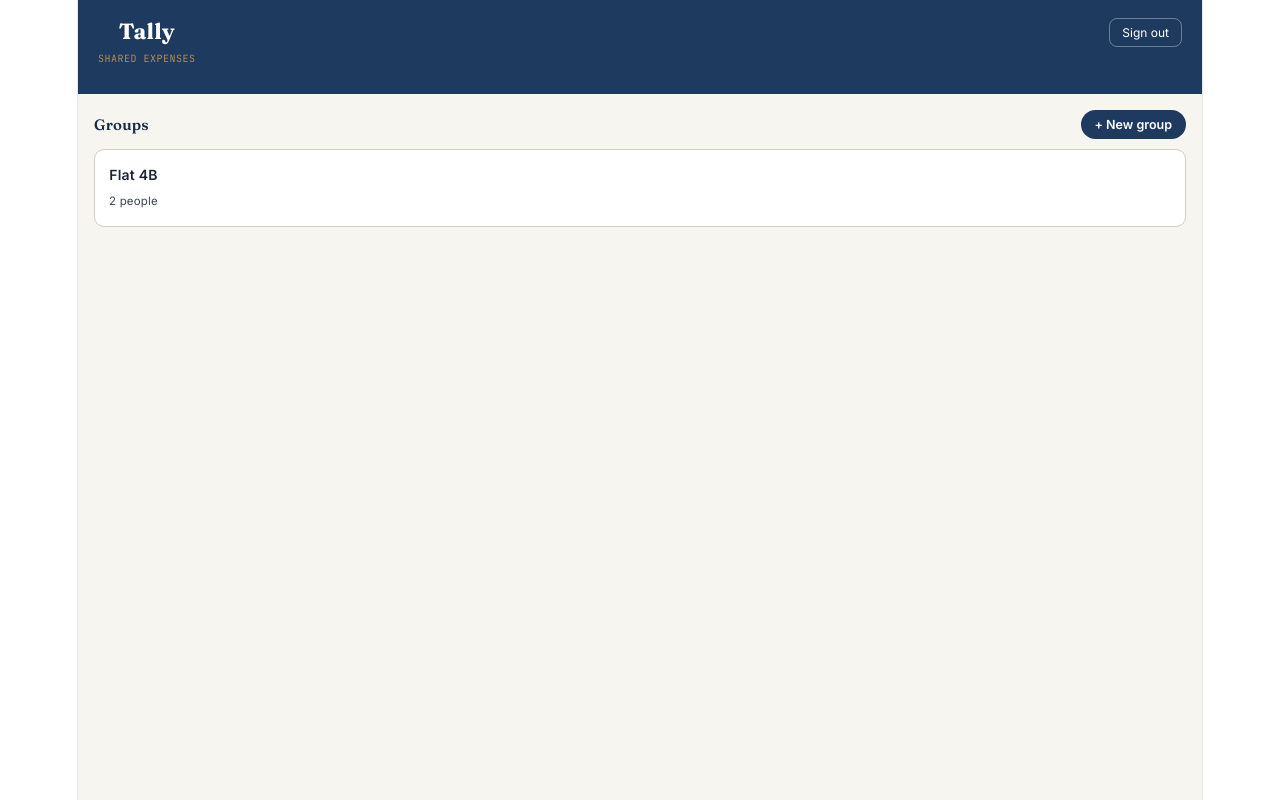
Scenario: Removing a settled member › shows 'settled up' and allows removal when balance is zero
Later steps or results of the test are not shown.
What coordinates should you click on to do the following:
click the text "Flat 4B"
I would click on:
 (133, 175)
Its box is [109,162,158,188].
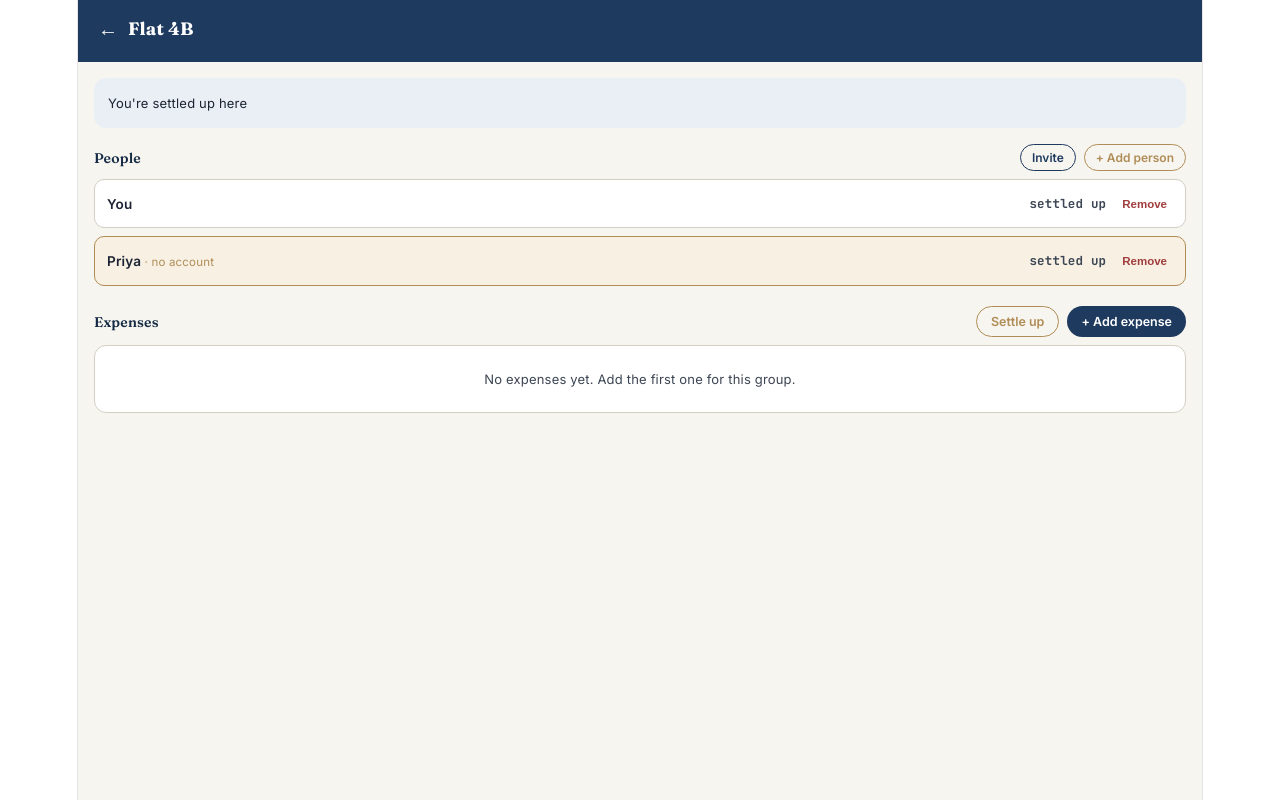
Expected: the text "settled up" is shown 2 times, [1029,191,1106,217]; [1029,248,1106,274]
Expected: the 1st button "Remove" is enabled, [1116,197,1173,211]
Expected: the button "Remove" in the row of "· no account" is enabled
What coordinates should you click on to do the following:
click the button "Remove" in the row of "· no account"
I would click on:
 (1145, 261)
Its box is [1116,254,1173,268].
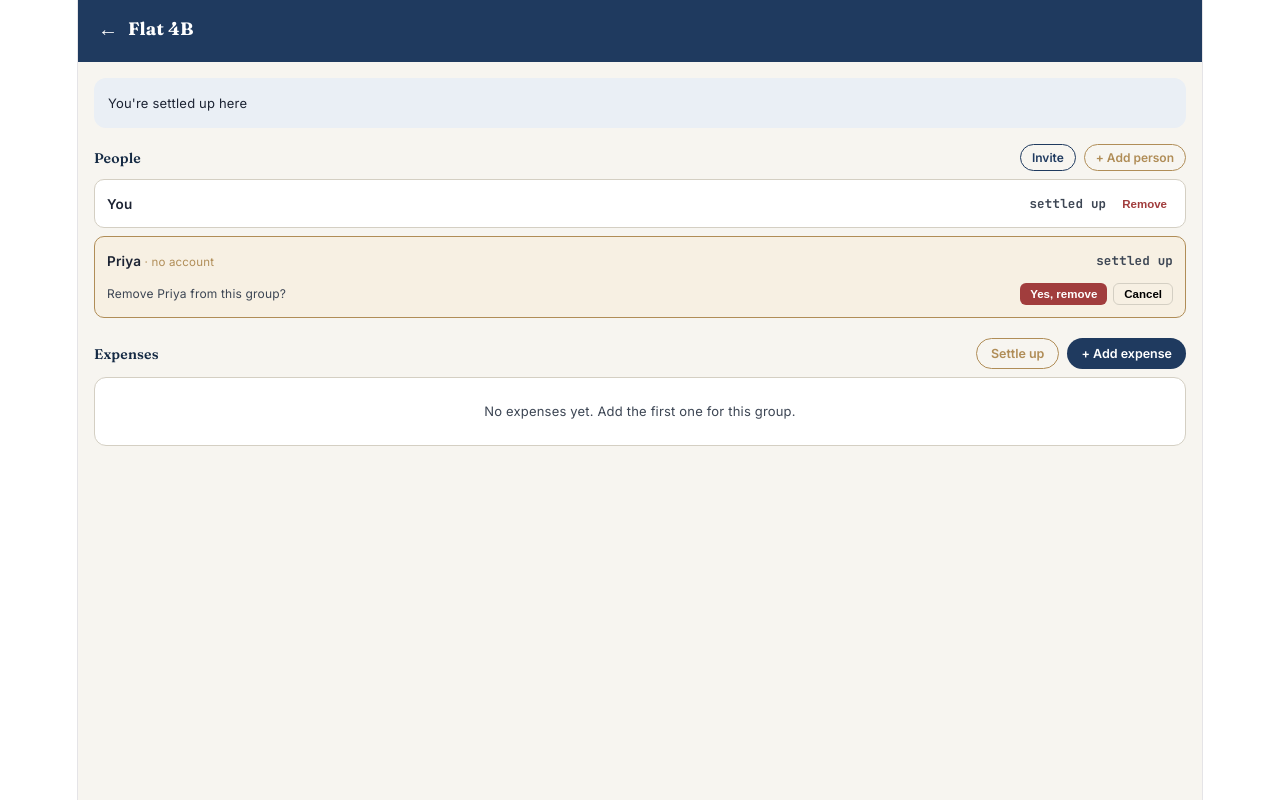
Expected: the text "Remove Priya from this group?" is shown, [107,286,286,301]
